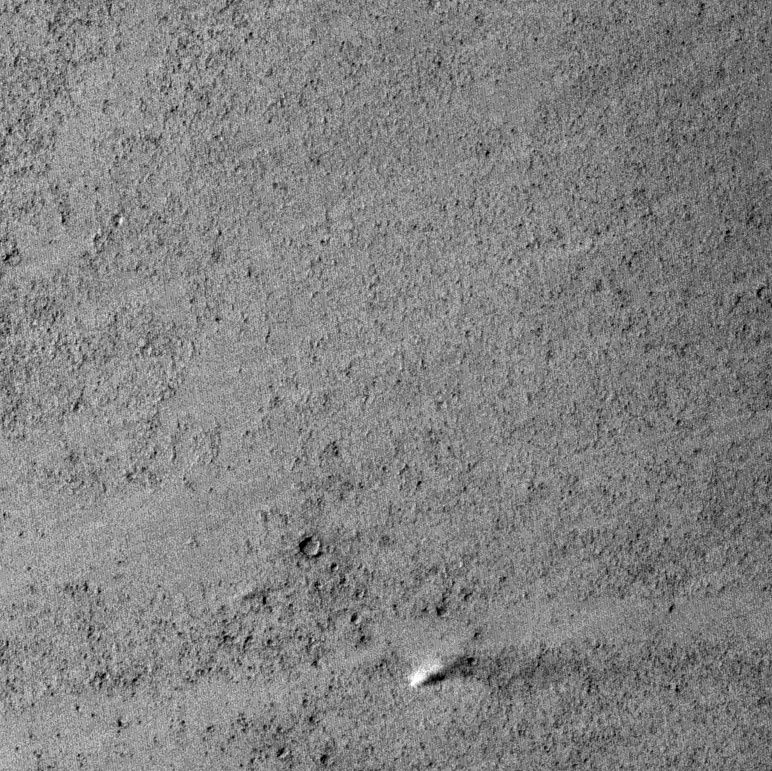dust_devil: (408, 653, 479, 690)
